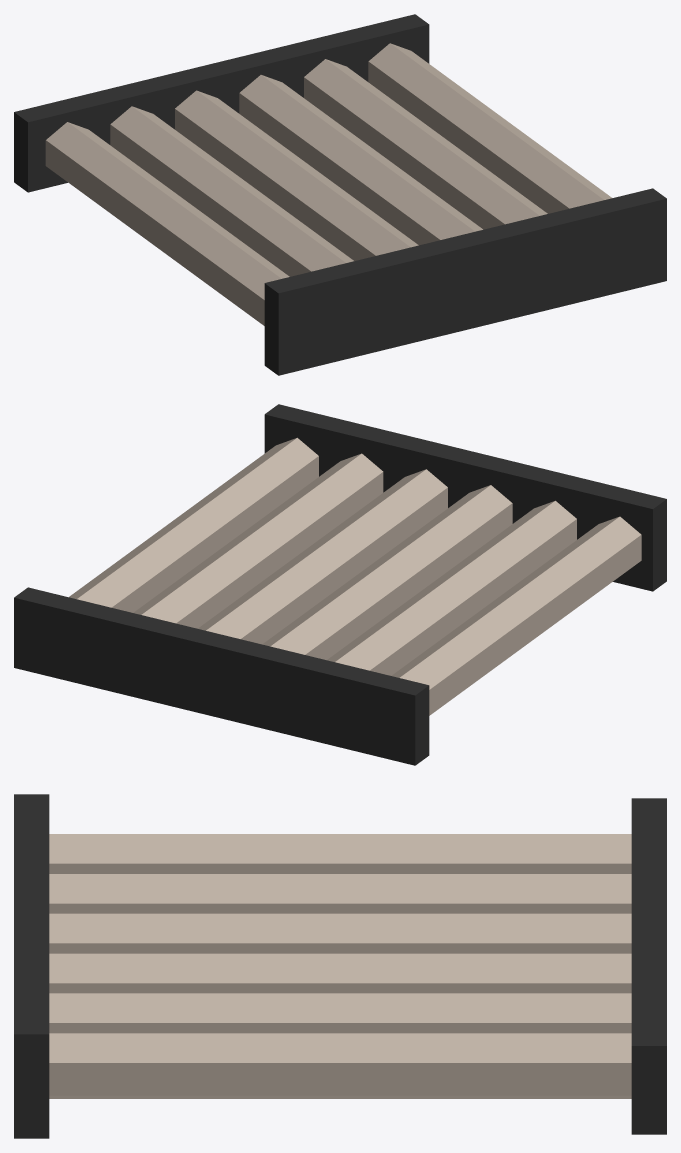
File: Prop_Sewer_Fence.fbx
3 views of the same model, one above another, from view 1: azimuth 30°, elevation 25°; view 2: azimuth 150°, elevation 25°; view 3: azimuth 270°, elevation 25° (orthographic). The views are drawn at different scales.
Visible parts, largest first — view 1: Fences; view 2: Fences; view 3: Fences.
Part boxes in pixels (x1,y1,x2,y2): Fences: (14,14,666,375); Fences: (14,404,666,765); Fences: (14,794,666,1138).
Size of the model in its own units: 331 by 64.9 by 368.
